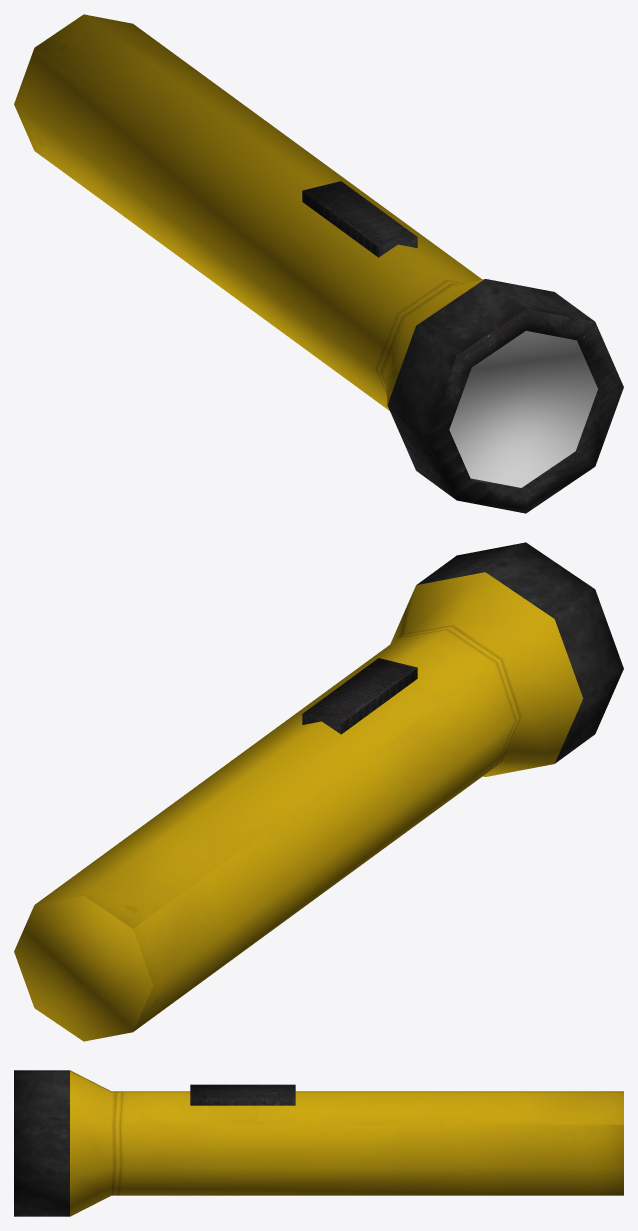
Rendered from Flash Light.fbx.
The picture shows the model from 3 angles, top to bottom: view 1: azimuth 30°, elevation 25°; view 2: azimuth 150°, elevation 25°; view 3: azimuth 270°, elevation 25°; orthographic projection. The views are drawn at different scales.
Parts seen in each view (by area): view 1: Flash Light; view 2: Flash Light; view 3: Flash Light.
Boxes of the visible parts, <box> form: Flash Light: <box>14,14,623,513</box>; Flash Light: <box>14,542,623,1041</box>; Flash Light: <box>14,1070,623,1216</box>.
Bounding box in the file's own units: 0.1937 × 0.1937 × 0.7572.
